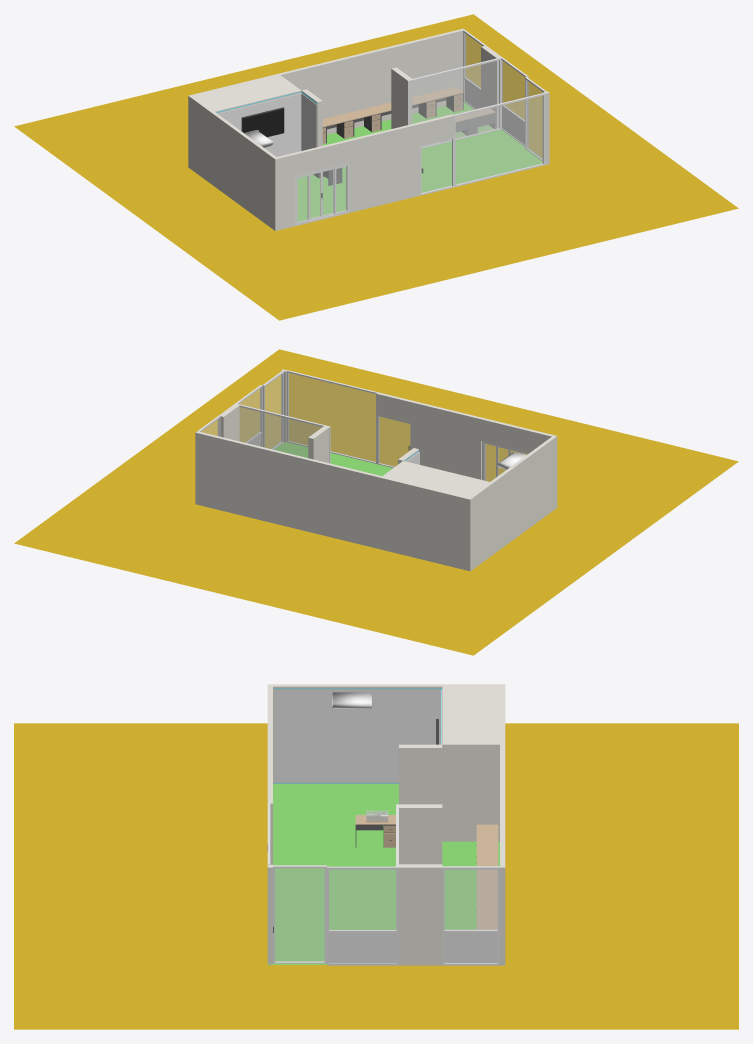
3 renders of one model, top to bottom at view 1: azimuth 30°, elevation 25°; view 2: azimuth 150°, elevation 25°; view 3: azimuth 270°, elevation 25°, orthographic. The views are drawn at different scales.
Visible parts, largest first — view 1: Plane, Wall_Top_Back, Plane.001, Front_Glass_Wall_Glass, Front_Solid_Wall, Wall_Left, Front_Glass_Wall_Glass.001, Solid_Block_TopLeft, Front_Sliding_Door_Glass, Cladding_Solid_Block_TopLeft_P2, Front_Door_Lintel, Front_Door_Pillar_L (+9 smaller); view 2: Plane, Wall_Top_Back, Solid_Block_TopLeft, Front_Glass_Wall_Glass, Wall_Left, Front_Solid_Wall, Front_Glass_Wall_Glass.001, Front_Door_Lintel, Front_Sliding_Door_Glass, Right_Sliding_Door_Glass, Plane.001, Right_Sliding_Door_Glass.001 (+3 smaller); view 3: Plane, Plane.001, Solid_Block_TopLeft, Right_Sliding_Door_Glass, Right_Solid_Pillar, Right_Sliding_Door_Glass.001, Cladding_Wall_Left_P2, Cladding_Wall_Left_P1, Cladding_Wall_Left_P0, Right_Glass_Top_Glass, Pillar_2, Pillar_1 (+7 smaller).
Boxes of the visible parts, x1,y1,x2,y2 form: Plane: (14,14,738,320); Wall_Top_Back: (279,28,464,134); Plane.001: (297,102,549,221); Front_Glass_Wall_Glass: (456,96,542,184); Front_Solid_Wall: (348,122,419,212); Wall_Left: (211,112,278,230); Front_Glass_Wall_Glass.001: (409,60,499,146); Solid_Block_TopLeft: (188,73,301,183); Front_Sliding_Door_Glass: (421,139,452,193); Cladding_Solid_Block_TopLeft_P2: (272,93,301,156); Front_Door_Lintel: (293,140,349,175); Front_Door_Pillar_L: (277,153,294,229); Plane: (14,349,738,655); Wall_Top_Back: (195,431,381,549); Solid_Block_TopLeft: (380,461,493,571); Front_Glass_Wall_Glass: (288,373,375,462); Wall_Left: (490,435,557,553); Front_Solid_Wall: (410,400,482,479); Front_Glass_Wall_Glass.001: (240,407,321,457); Front_Door_Lintel: (481,418,537,452); Front_Sliding_Door_Glass: (379,416,409,466); Right_Sliding_Door_Glass: (265,374,282,448); Plane.001: (271,442,392,475); Right_Sliding_Door_Glass.001: (239,388,260,442); Plane: (14,723,738,1029); Plane.001: (267,784,499,964); Solid_Block_TopLeft: (442,684,505,841); Right_Sliding_Door_Glass: (275,868,324,961); Right_Solid_Pillar: (399,864,442,965); Right_Sliding_Door_Glass.001: (329,870,396,930); Cladding_Wall_Left_P2: (355,690,398,781); Cladding_Wall_Left_P1: (311,690,354,781); Cladding_Wall_Left_P0: (273,690,310,781); Right_Glass_Top_Glass: (445,870,497,930); Pillar_2: (399,804,442,864); Pillar_1: (399,744,442,804).
Bounding box in the file's own units: 20.12 × 3 × 20.12.
